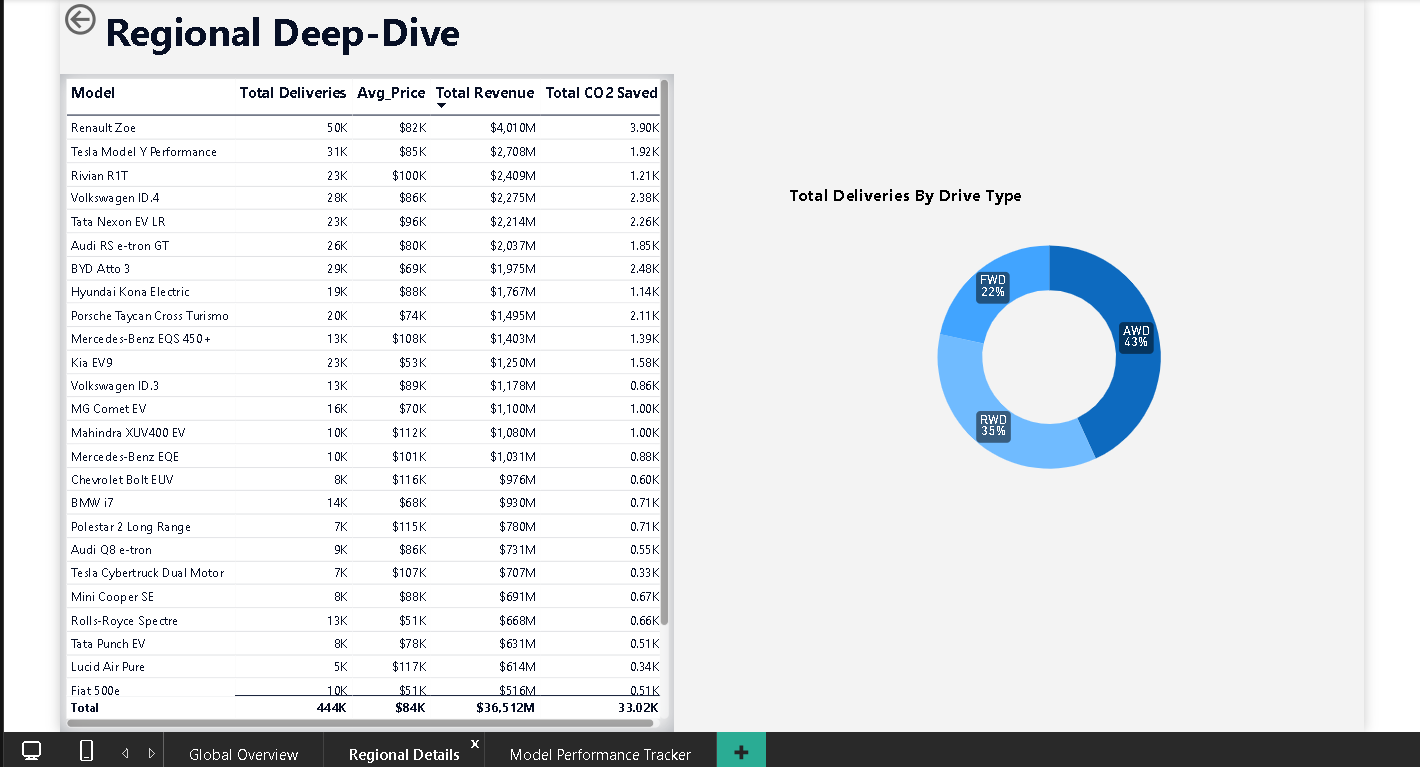

Layout of this report page (visuals, bound fields, positions):
{"tool":"powerbi","page":{"name":"Regional Details","canvas":[1280,720],"ordinal":1},"visuals":[{"type":"actionButton","box":[0,0,100,40],"z":0},{"type":"tableEx","fields":{"Values":["model.model_name","sales.Total Deliveries","Avg(sales.Avg_Price_USD)","sales.Total Revenue","sales.Total CO2 Saved"]},"box":[0,73.6,602.5,646.6],"z":1000},{"type":"donutChart","title":"Total Deliveries By Drive Type","fields":{"Y":["sales.Total Deliveries"],"Category":["model.drive_type"]},"box":[764.4,170.6,411,288.3],"z":2000},{"type":"textbox","box":[39.3,1.2,872.4,72.4],"z":3000}]}

Visuals, with their boxes on the page's 1280x720 design canvas (x1, y1, x2, y2). These are canvas units, not pixel positions in the 1420x767 screenshot, which may show the page scaled, cropped or inside an application window:
actionButton: (0,0,100,40)
tableEx - model.model_name x sales.Total Deliveries: (0,74,602,720)
"Total Deliveries By Drive Type" donutChart: (764,171,1175,459)
textbox: (39,1,912,74)
